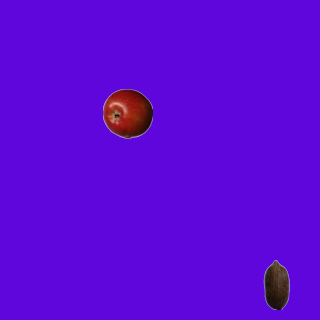Apple Braeburn: (102, 88, 152, 138)
Nut Pecan: (251, 259, 301, 309)
